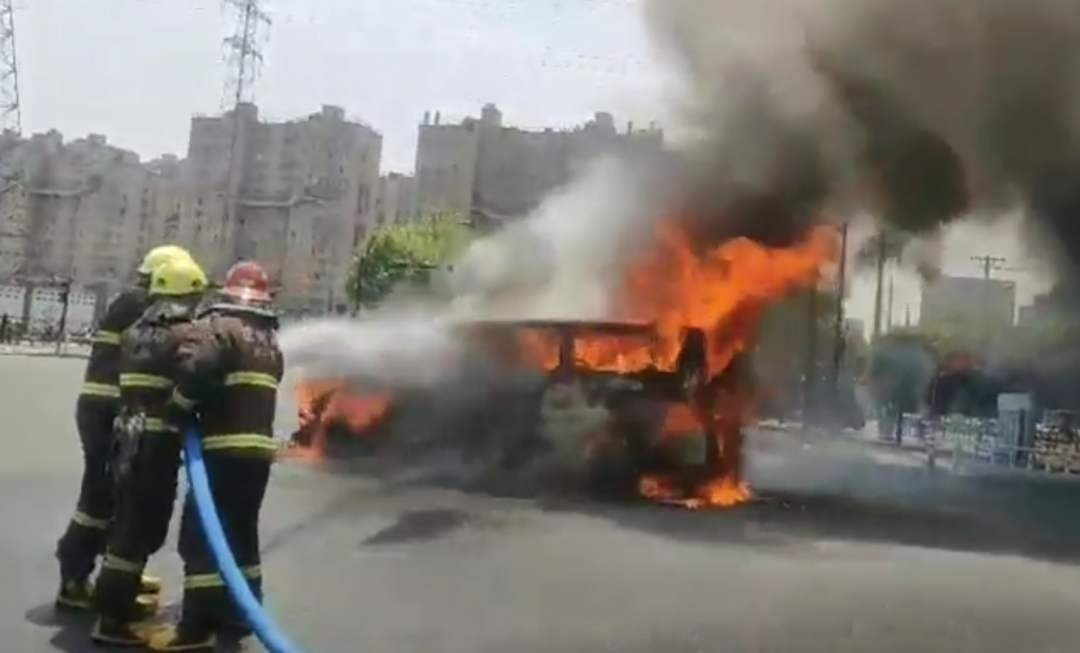fire: (553, 220, 835, 378), (636, 406, 754, 510), (288, 373, 394, 458)
